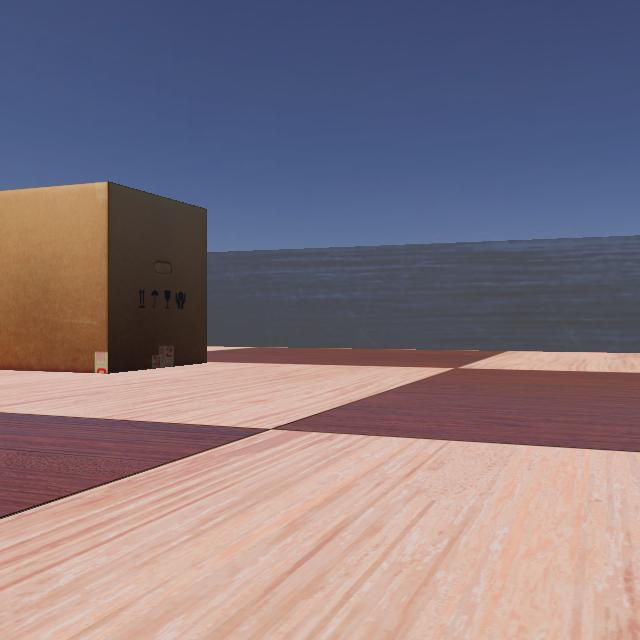cardboard-box: (0, 180, 214, 374)
